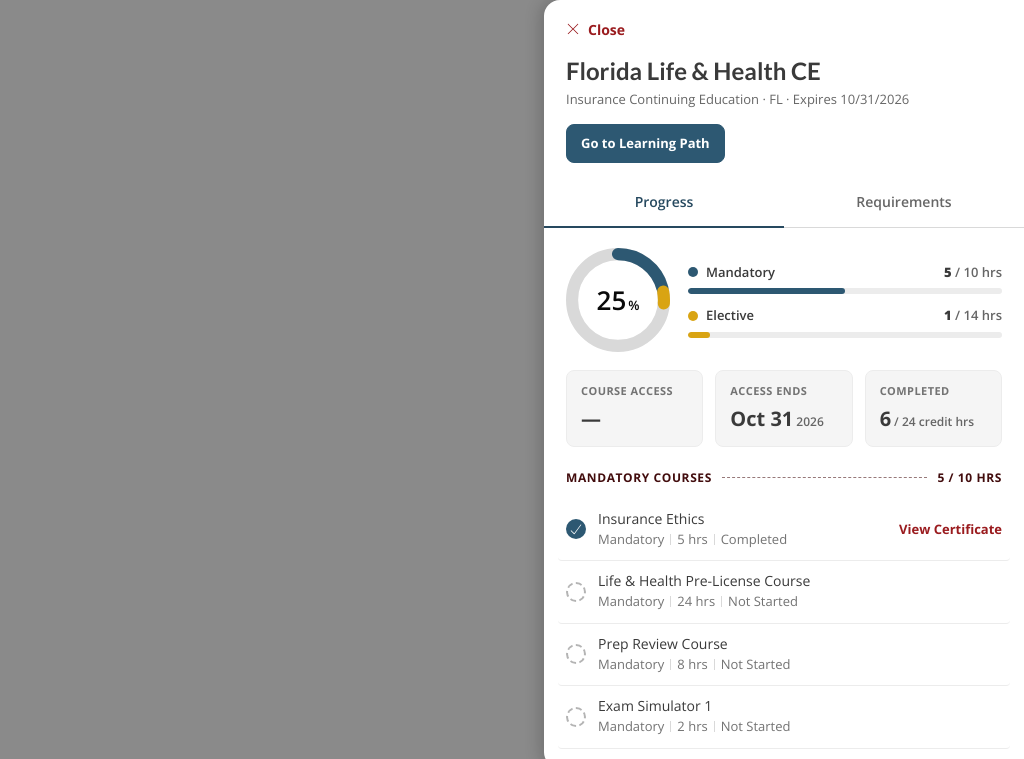
Scenario: LearningPathDetailPanel › keeps the CTA row visible on both tabs
The image size is (1024, 759).
Expected: the button "Go to Learning Path" is shown, [566,124,725,163]
# Switch to Requirements — CTA row is pinned above the tabs, so it stays.
Click the button "Requirements". click: point(904, 204)
box: [784,179,1023,228]
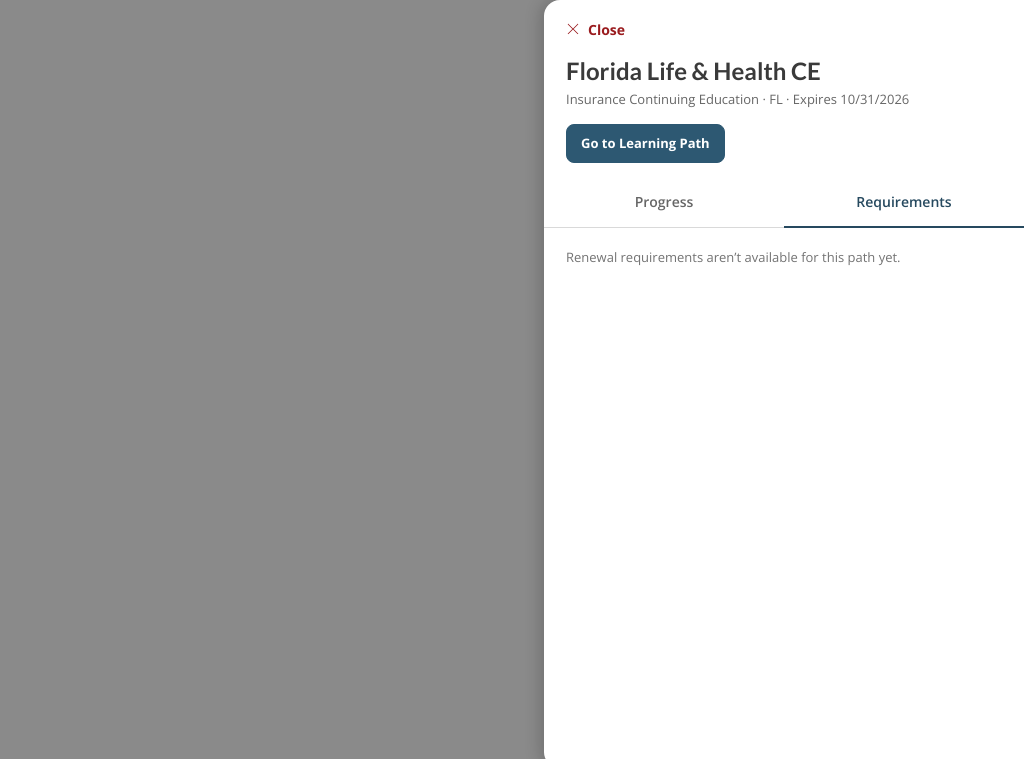
Expected: the button "Go to Learning Path" is shown, [566,124,725,163]
Result: the text "Renewal requirements aren’t available for this path yet." is shown at [566,248,900,266]
